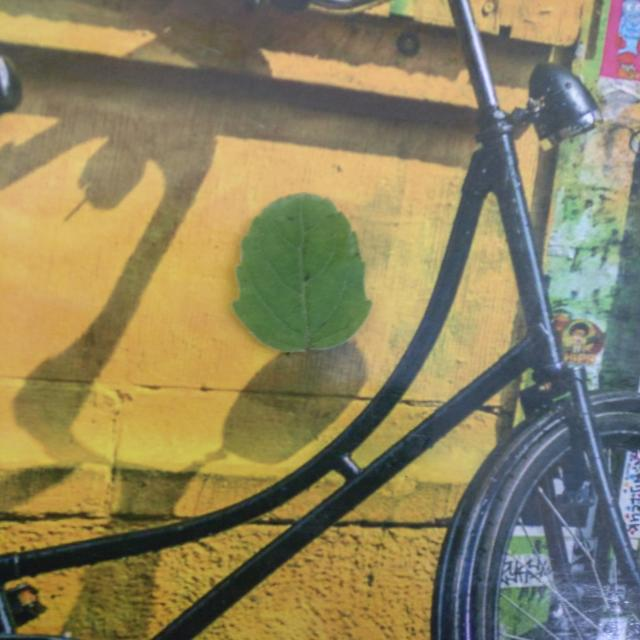tulsi: (233, 194, 372, 351)
